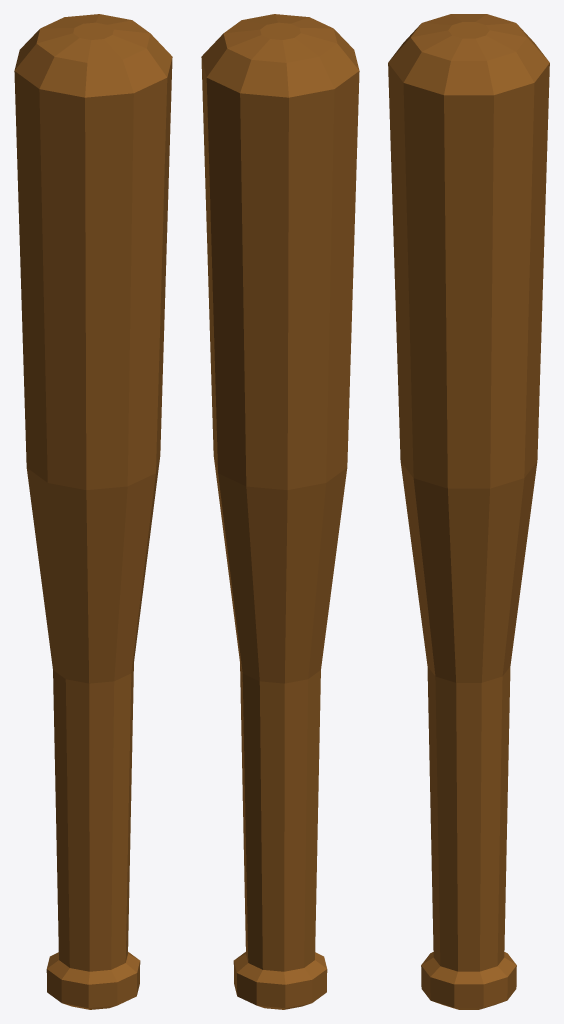
File: MedievalBaton.fbx
3 views of the same model, side by side, from view 1: azimuth 30°, elevation 25°; view 2: azimuth 150°, elevation 25°; view 3: azimuth 270°, elevation 25° (orthographic).
Parts seen in each view (by area): view 1: Цилиндр; view 2: Цилиндр; view 3: Цилиндр.
Part boxes in pixels (left/top/right/bottom): Цилиндр: left=14, top=14, right=172, bottom=1009; Цилиндр: left=201, top=14, right=359, bottom=1009; Цилиндр: left=388, top=14, right=549, bottom=1009.
Size of the model in its own units: 30.45 by 211 by 32.02.
